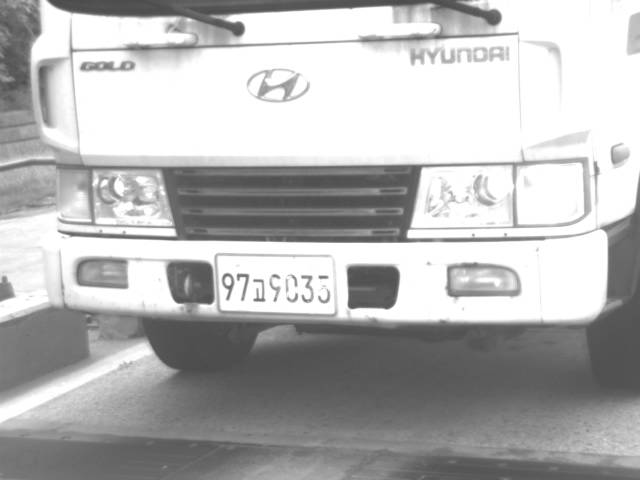car: (28, 1, 639, 391)
plate: (213, 252, 340, 317)
